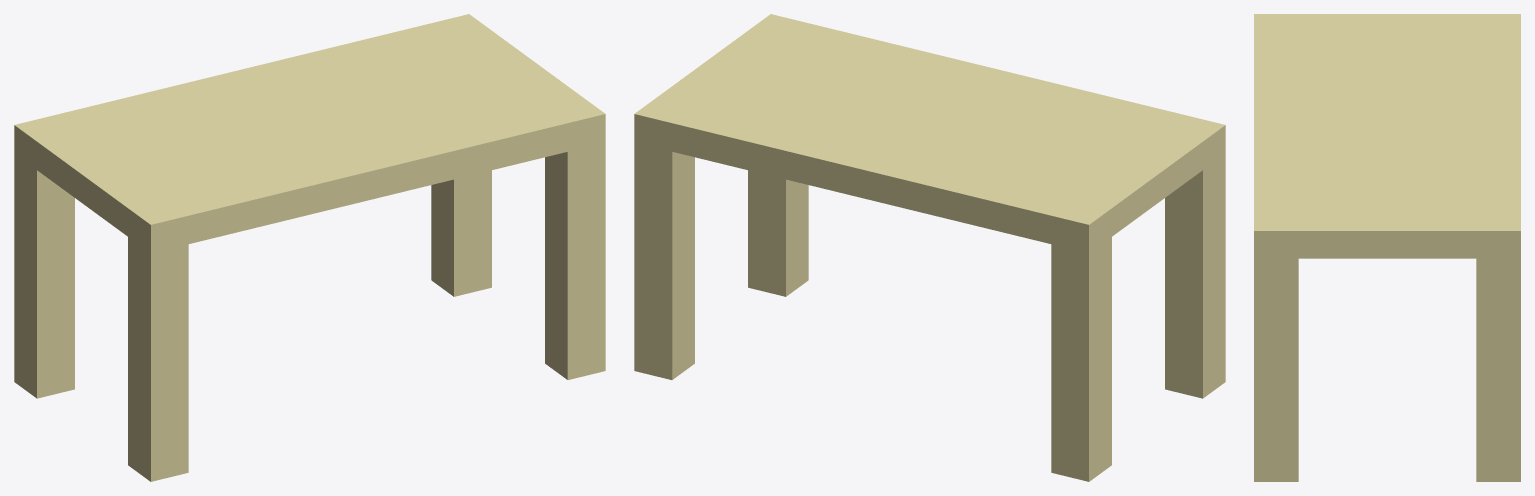
Rendered from Table.fbx.
3 renders of one model, left to right at view 1: azimuth 30°, elevation 25°; view 2: azimuth 150°, elevation 25°; view 3: azimuth 270°, elevation 25°, orthographic. The views are drawn at different scales.
Visible parts, largest first — view 1: Table; view 2: Table; view 3: Table.
Boxes of the visible parts, bbox=[...] form: Table: bbox=[14, 14, 605, 481]; Table: bbox=[634, 14, 1225, 481]; Table: bbox=[1254, 14, 1520, 481].
Size of the model in its own units: 125 by 67.5 by 65.
